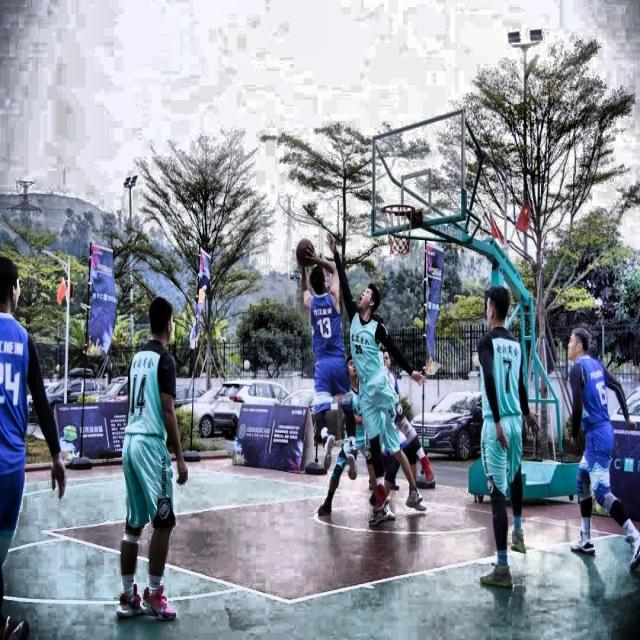rim: (380, 204, 415, 256)
